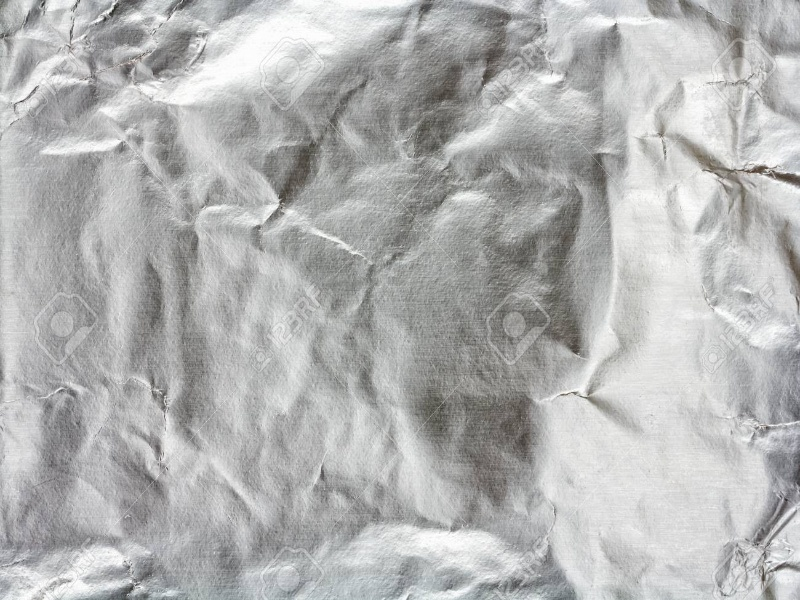Aluminium_Foil: (54, 76, 631, 499)
